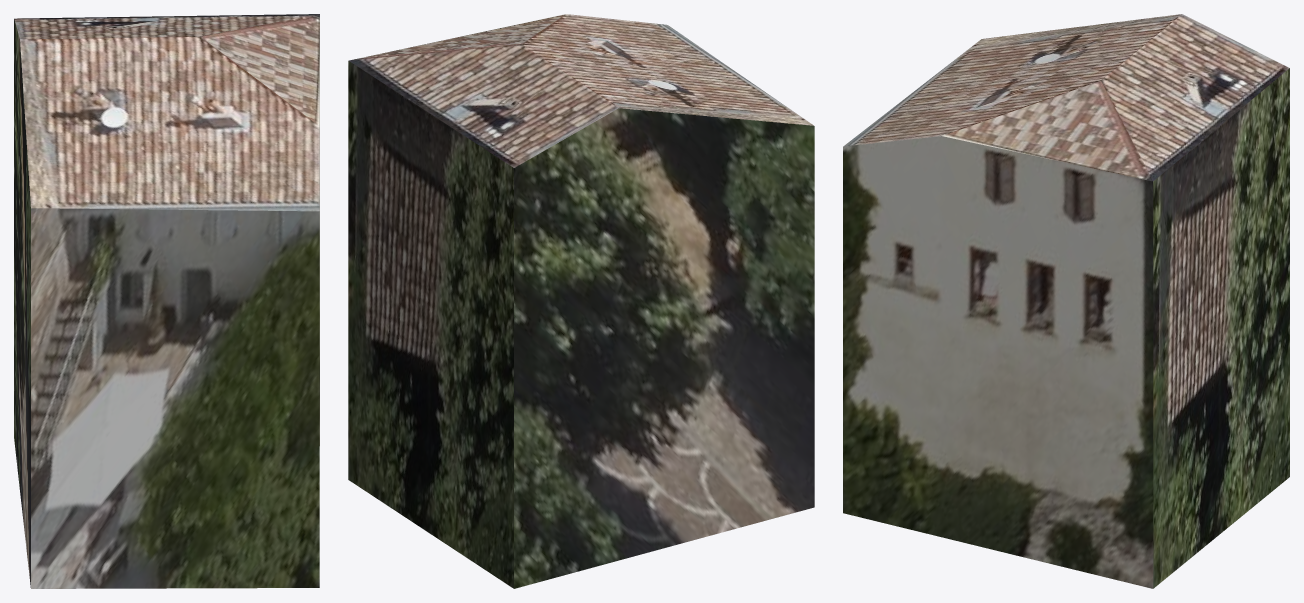
3 views of the same model, side by side, from view 1: azimuth 30°, elevation 25°; view 2: azimuth 150°, elevation 25°; view 3: azimuth 270°, elevation 25° (orthographic). The views are drawn at different scales.
Parts seen in each view (by area): view 1: Z_UP; view 2: Z_UP; view 3: Z_UP.
Boxes of the visible parts, x1=… form: Z_UP: x1=14, y1=14, x2=319, y2=588; Z_UP: x1=348, y1=14, x2=814, y2=588; Z_UP: x1=843, y1=14, x2=1289, y2=588.
Bounding box in the file's own units: 11.98 × 13.71 × 12.63.
2 materials, 1 textured.
